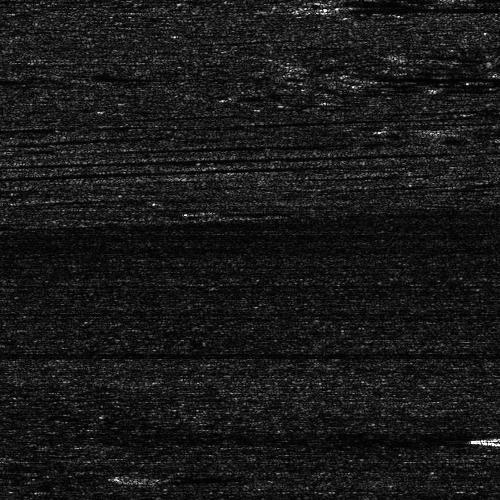object: (448, 430, 500, 443), (95, 472, 168, 481), (301, 0, 342, 1)
shadow: (132, 472, 189, 481), (0, 187, 45, 196), (0, 232, 20, 239), (321, 0, 380, 1)
